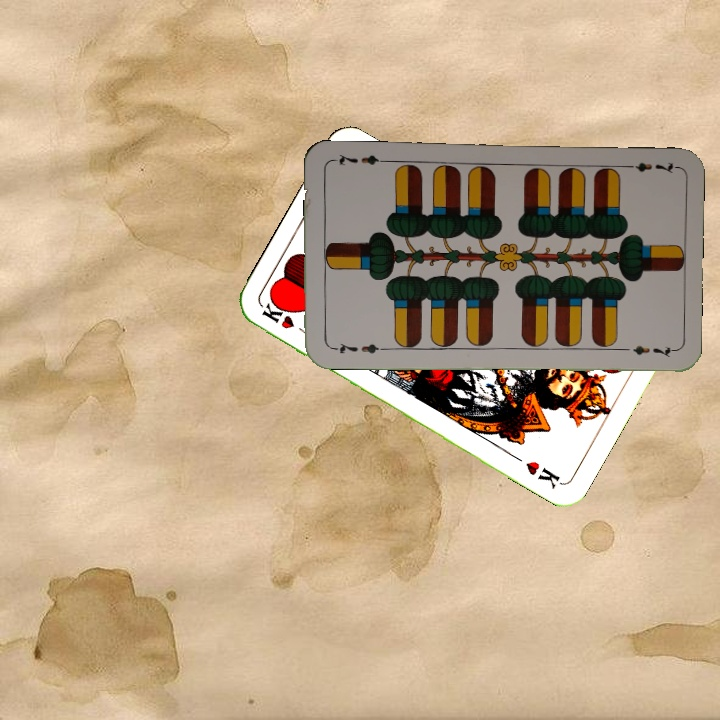E7: (619, 157, 678, 176), (326, 339, 385, 357)
HK: (258, 299, 313, 339)
